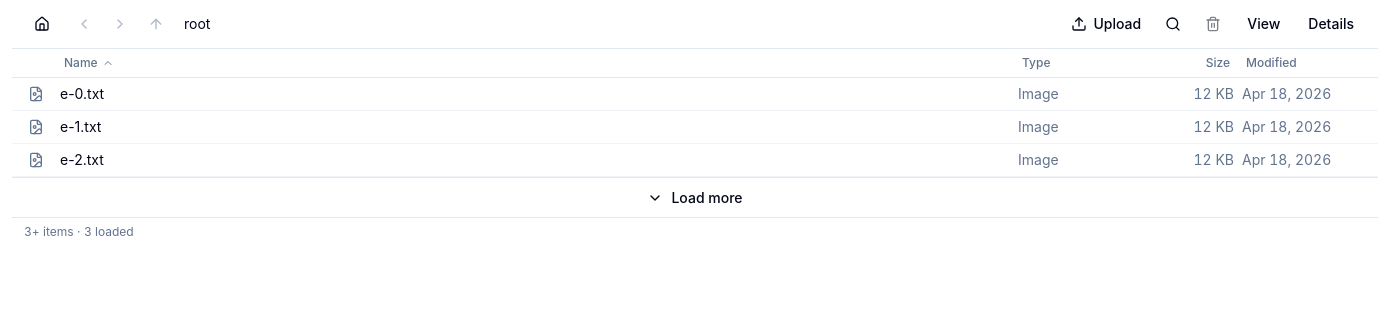
LoadMoreRegion behavior through the composite (spec scenarios) › Load-more failure surfaces the inline retry row + updates the status row to 'couldn't load more' (spec lines 48-51)
Click the button "Load more".
click(695, 197)  # box [12, 177, 1378, 217]
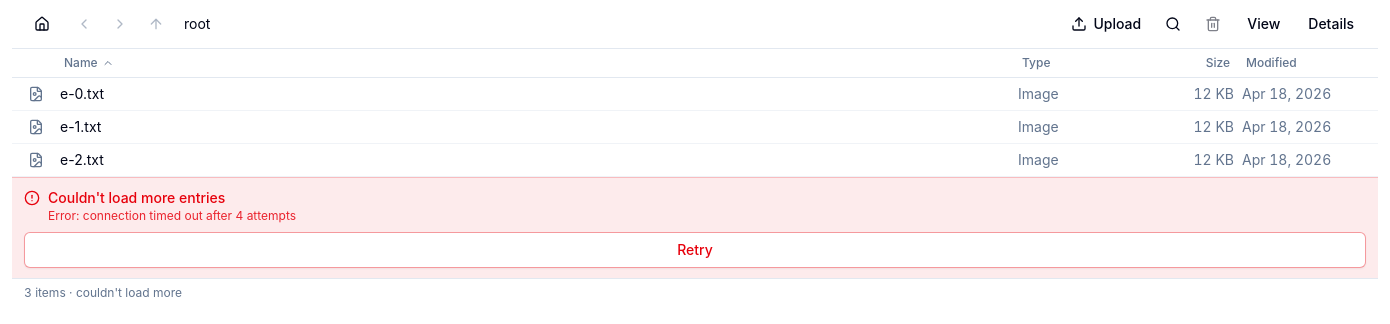
Result: the message "Couldn't load more entries Error: connection timed out after 4 attempts Retry" is shown at [12, 177, 1378, 278]
Result: the text "Couldn't load more entries" is shown at [48, 189, 225, 206]
Result: the message "3 items · couldn't load more" is shown at [12, 278, 1378, 307]
